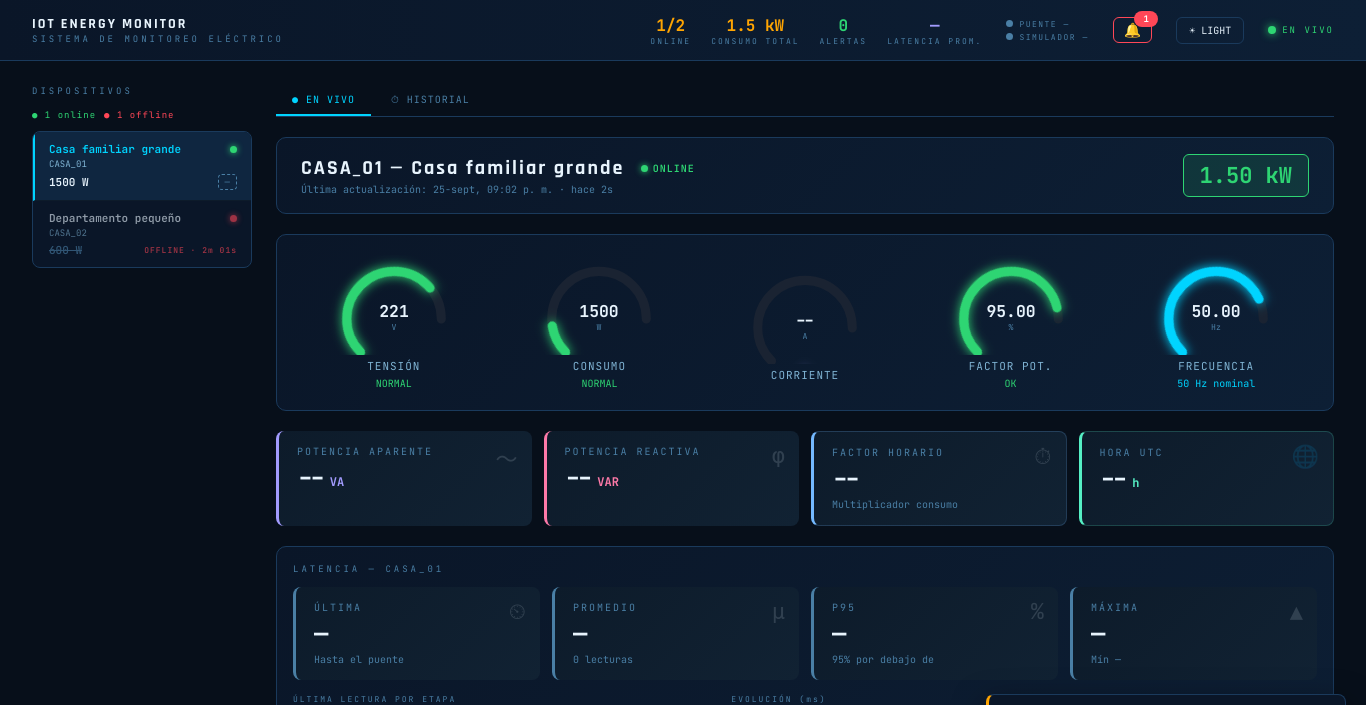
la pestaña historial consulta Firestore
Click the tab "⏱ HISTORIAL" at (430, 100), box [375,85,486,116]
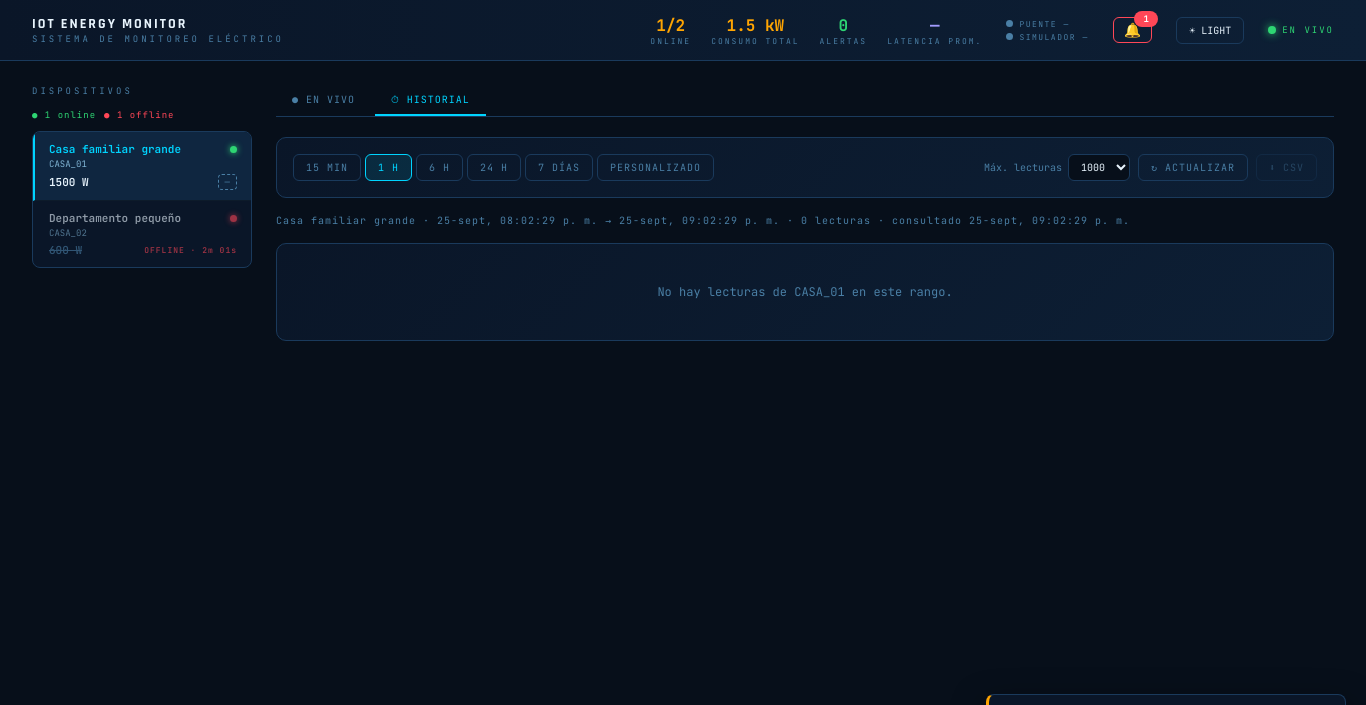
Result: the text "No hay lecturas de CASA_01 en este rango." is shown at [276,243,1334,341]
